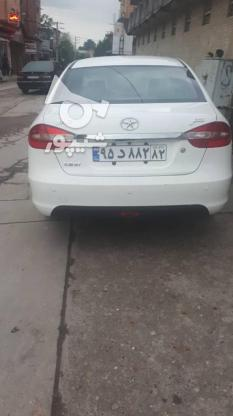car: (92, 145, 169, 161)
